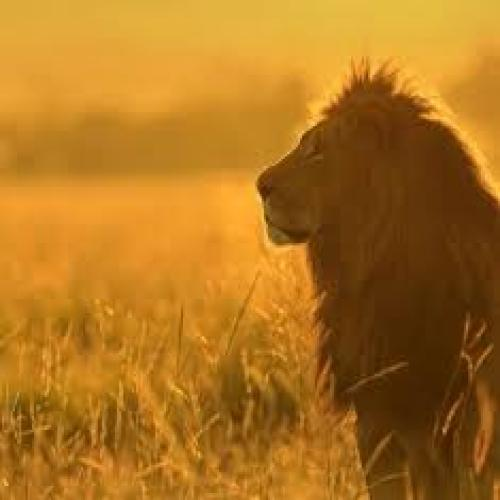lion-endangered: (258, 63, 500, 500)
